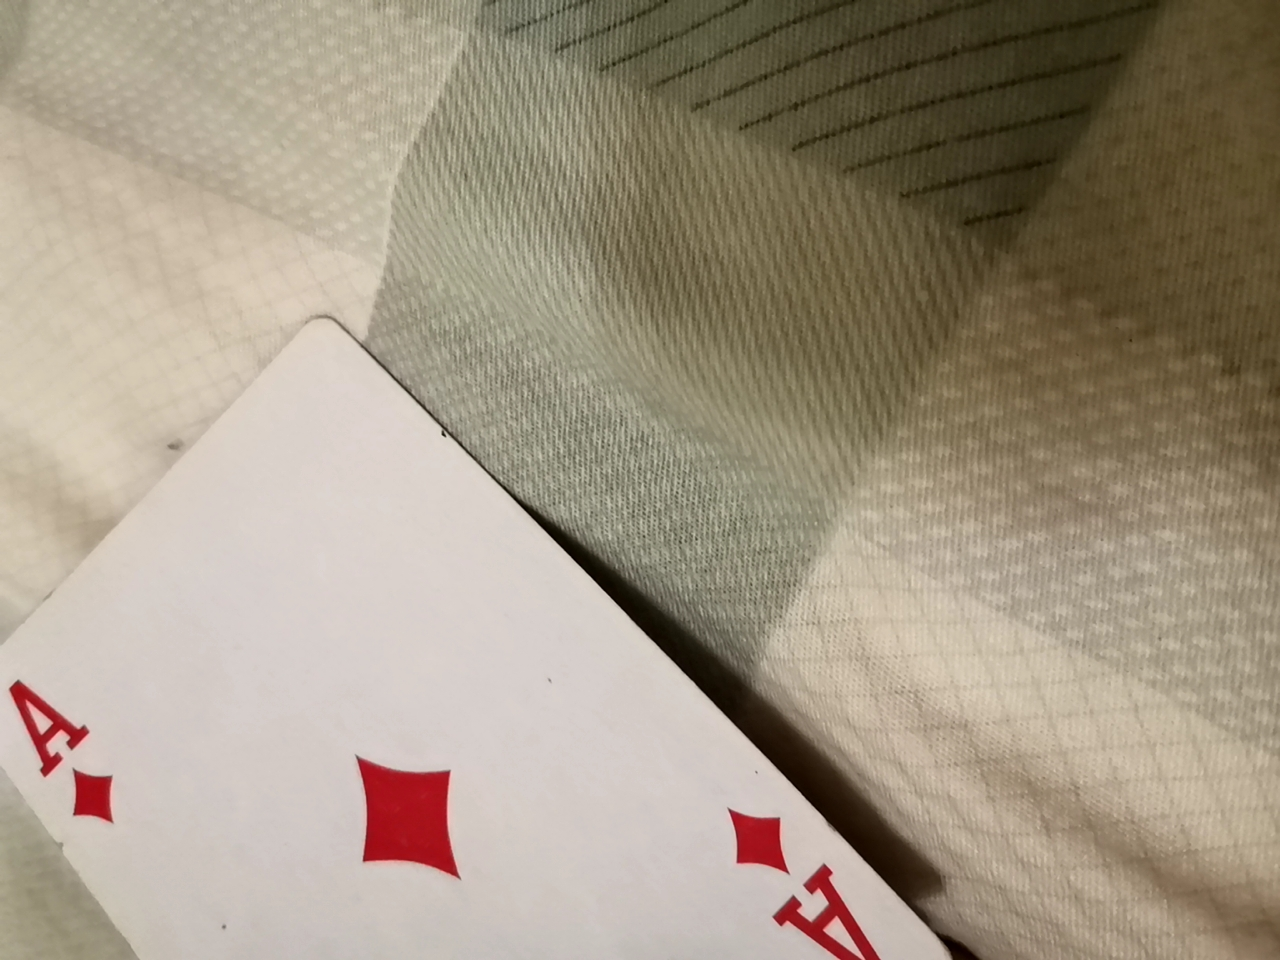fk a: (2, 317, 967, 952)
